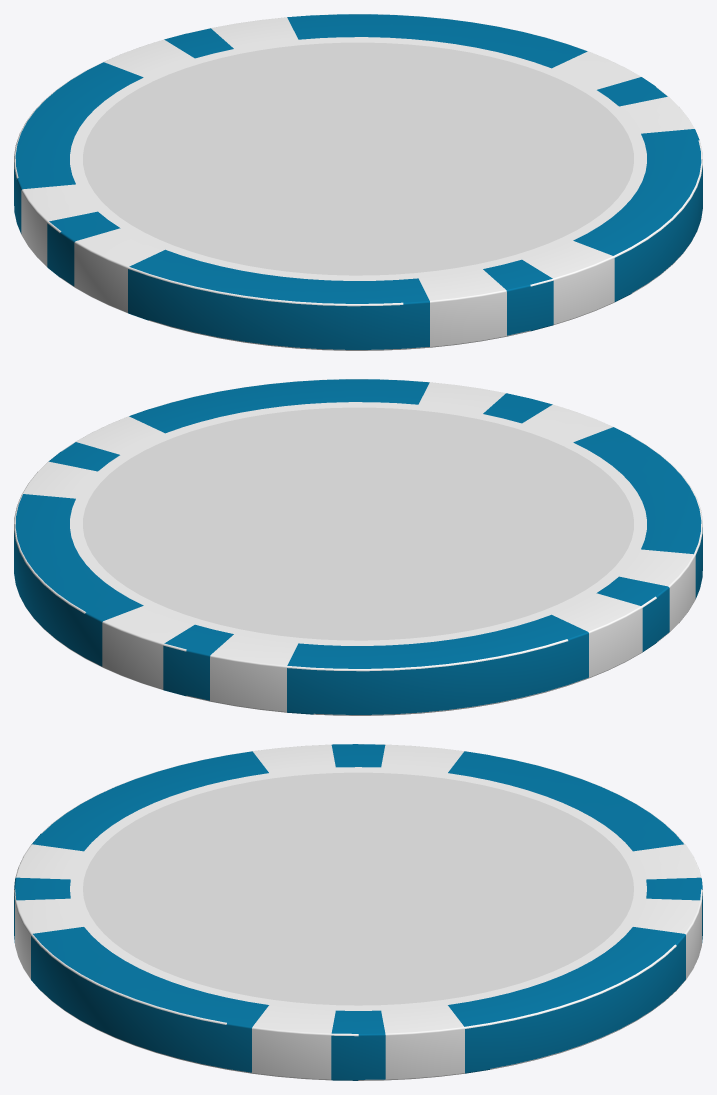
File: Blue chip.fbx
3 renders of one model, top to bottom at view 1: azimuth 30°, elevation 25°; view 2: azimuth 150°, elevation 25°; view 3: azimuth 270°, elevation 25°, orthographic.
Visible parts, largest first — view 1: Chip_2; view 2: Chip_2; view 3: Chip_2.
Part boxes in pixels (x1=…): Chip_2: x1=14, y1=14, x2=702, y2=350; Chip_2: x1=14, y1=379, x2=702, y2=715; Chip_2: x1=14, y1=744, x2=702, y2=1080.
Bounding box in the file's own units: 4 × 0.3 × 4.
